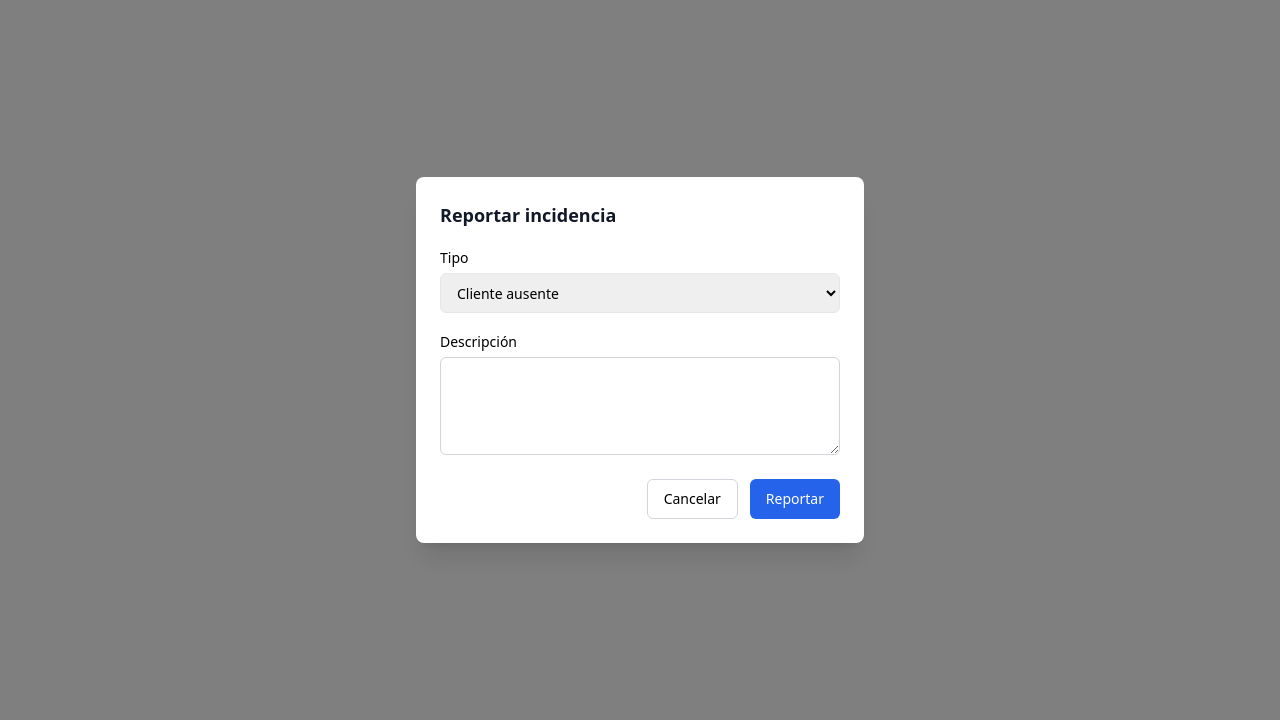
Test: R1 - debe enviar { envioId, tipo, descripcion } y mostrar confirmación en éxito › envía la incidencia con los datos seleccionados y muestra el toast de confirmación
Select "Daño" in the dropdown named "tipo de incidencia" at (640, 293), box [440,273,840,313]
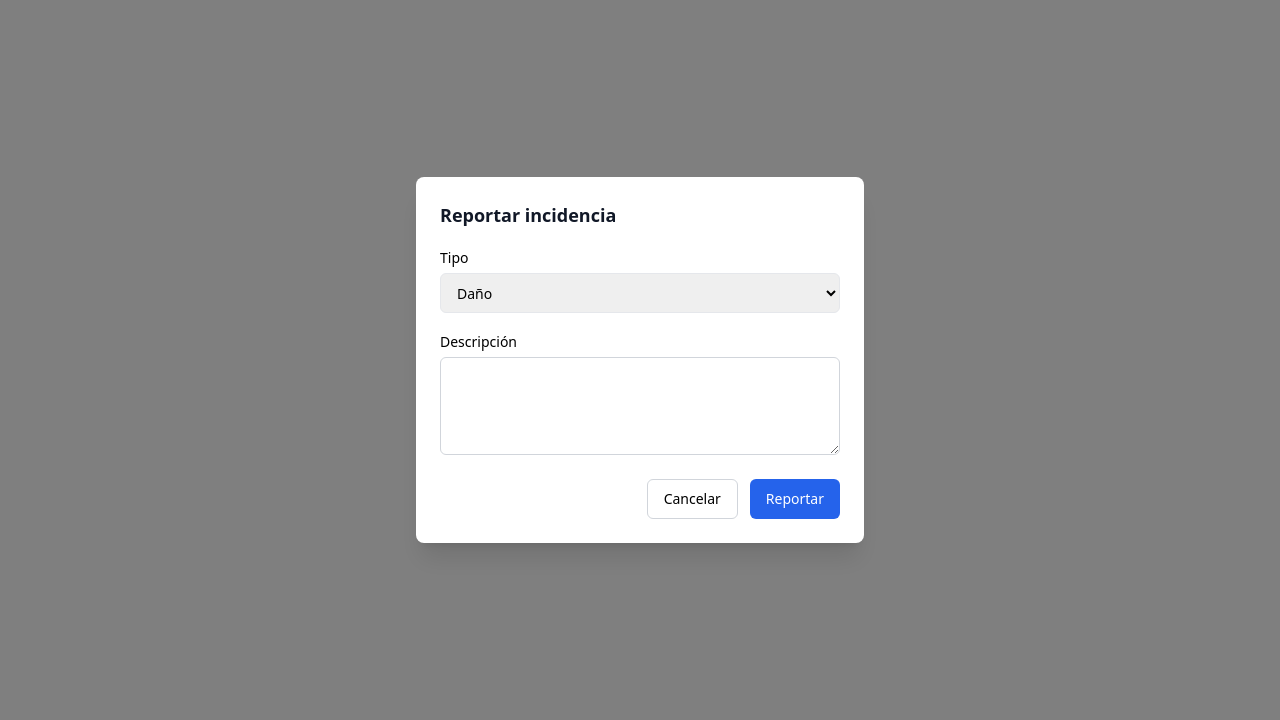
Type "El paquete llegó con la caja rota" into the text box named "descripción de la incidencia" at (640, 406), box [440,357,840,455]
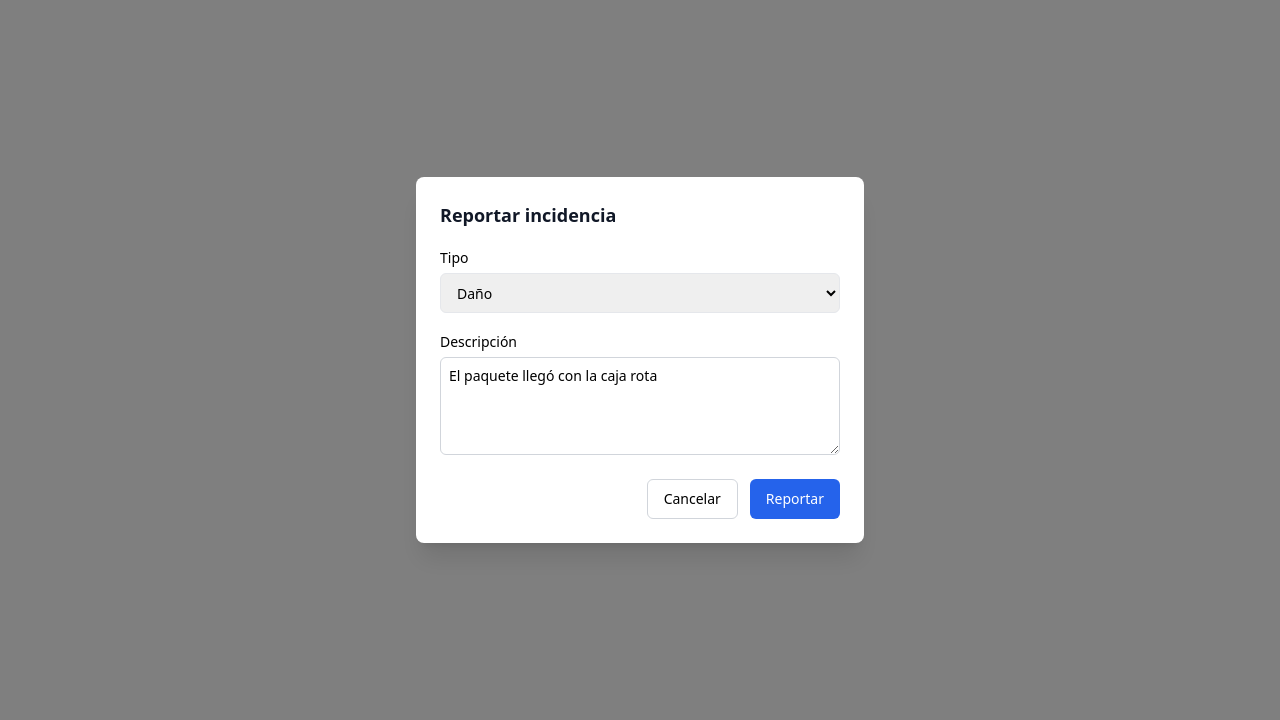
Click the button "Reportar" at (795, 499), box [750,479,840,519]
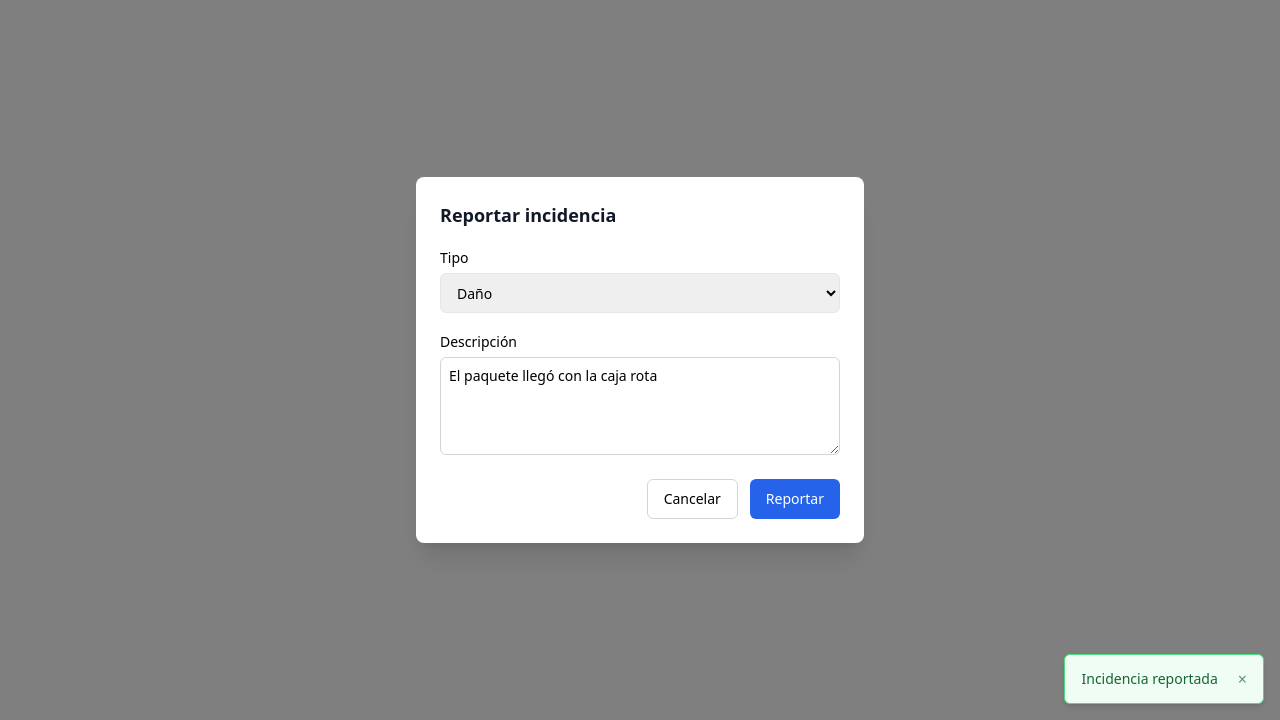
expect the message shows "Incidencia reportada": met, box [1082,669,1218,688]
